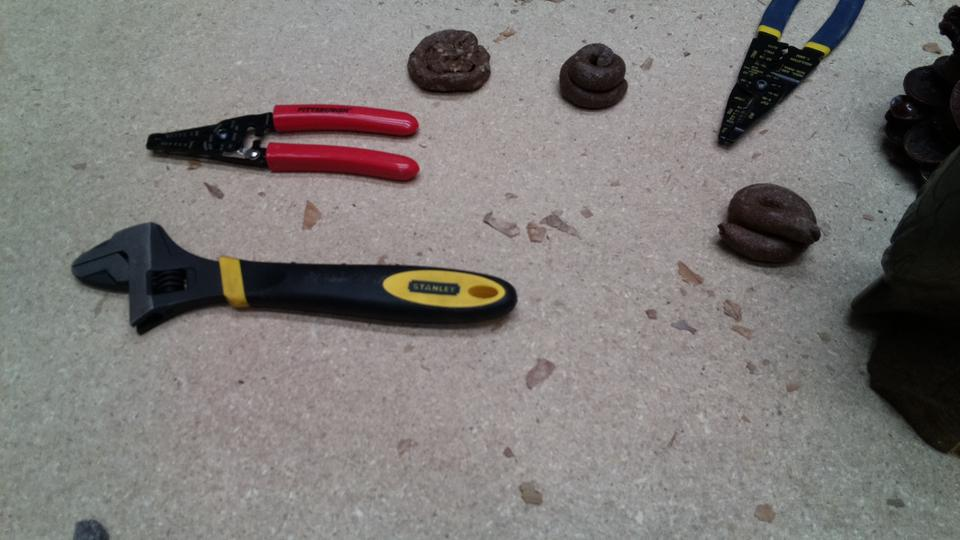poop: (716, 179, 825, 269), (405, 26, 494, 98), (556, 41, 631, 114)
